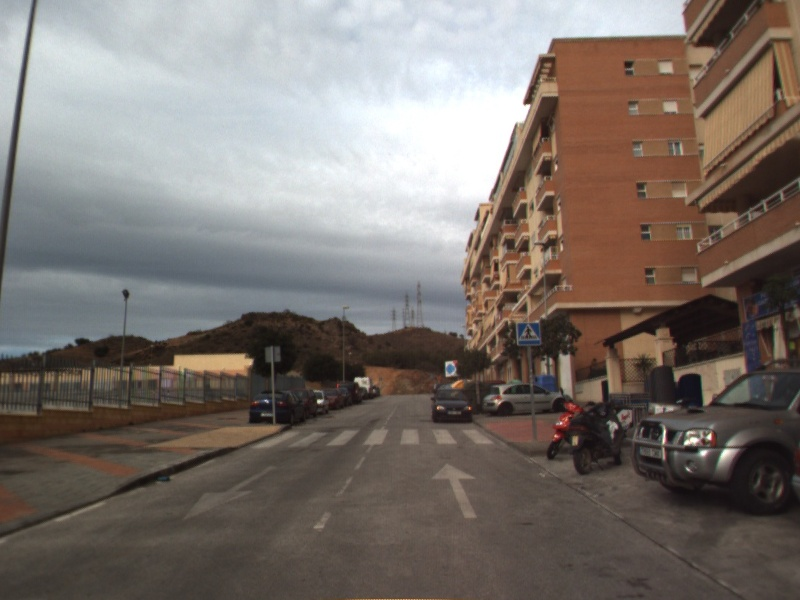STRAIGHT: (429, 461, 479, 520)
